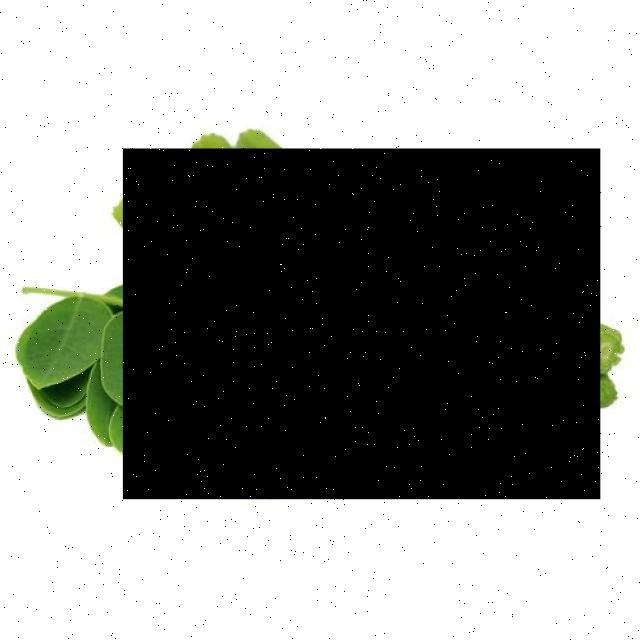Sajjyun: (124, 149, 602, 499)
